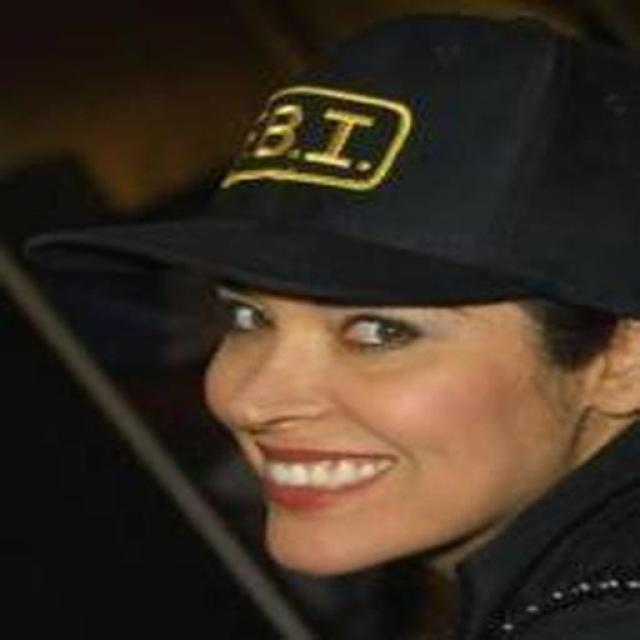bareface: (16, 21, 640, 556)
